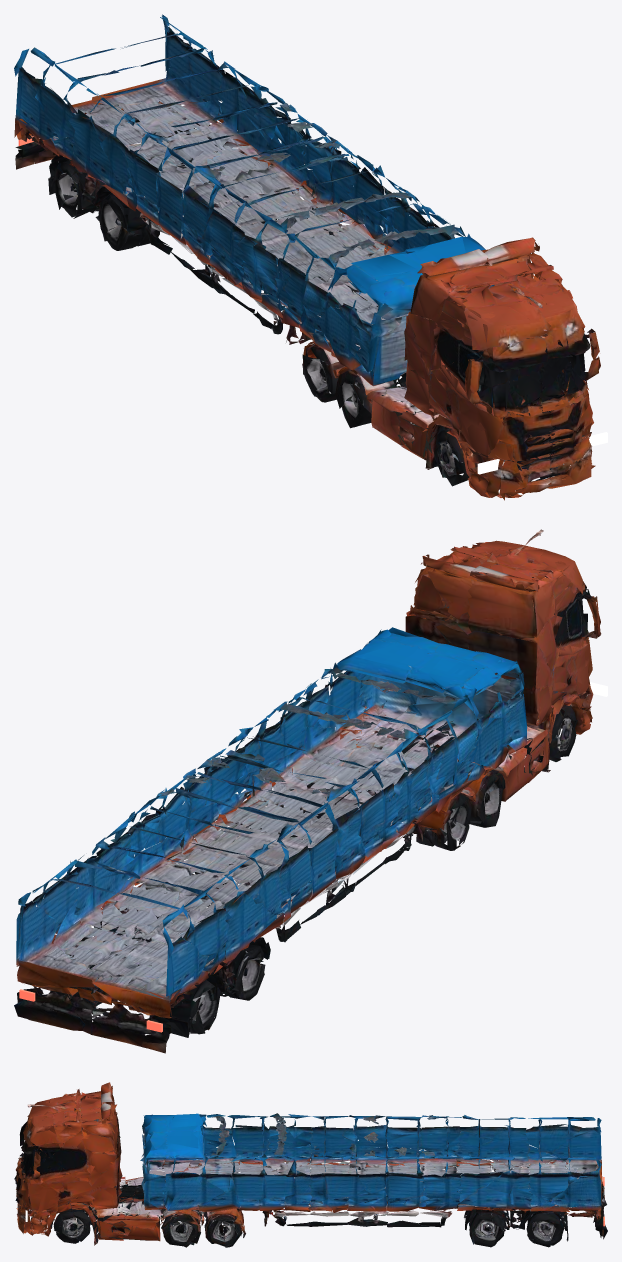
Rendered from mats-flat.glb.
The picture shows the model from 3 angles, top to bottom: view 1: azimuth 30°, elevation 25°; view 2: azimuth 150°, elevation 25°; view 3: azimuth 270°, elevation 25°; orthographic projection. The views are drawn at different scales.
Visible parts, largest first — view 1: trailer_body, cab_body, wheel_1_L, wheel_2_L, wheel_3_L, wheel_4_L, wheel_0_L; view 2: trailer_body, cab_body, wheel_2_L, wheel_1_L, wheel_4_L, wheel_3_L, wheel_0_L; view 3: trailer_body, cab_body, wheel_1_R, wheel_2_R, wheel_4_R, wheel_3_R, wheel_0_R.
Part boxes in pixels (left/top/right/bottom): trailer_body: left=14, top=14, right=494, bottom=386; cab_body: left=302, top=237, right=600, bottom=500; wheel_1_L: left=335, top=367, right=394, bottom=428; wheel_2_L: left=302, top=340, right=345, bottom=402; wheel_3_L: left=94, top=186, right=153, bottom=250; wheel_4_L: left=49, top=155, right=99, bottom=218; wheel_0_L: left=427, top=418, right=468, bottom=486; trailer_body: left=14, top=627, right=527, bottom=1053; cab_body: left=344, top=529, right=601, bottom=848; wheel_2_L: left=412, top=789, right=474, bottom=850; wheel_1_L: left=461, top=766, right=506, bottom=827; wheel_4_L: left=170, top=973, right=220, bottom=1034; wheel_3_L: left=212, top=944, right=264, bottom=1000; wheel_0_L: left=531, top=698, right=577, bottom=761; trailer_body: left=140, top=1113, right=607, bottom=1241; cab_body: left=14, top=1082, right=245, bottom=1245; wheel_1_R: left=161, top=1209, right=201, bottom=1247; wheel_2_R: left=201, top=1208, right=242, bottom=1247; wheel_4_R: left=526, top=1205, right=567, bottom=1247; wheel_3_R: left=468, top=1207, right=510, bottom=1247; wheel_0_R: left=53, top=1203, right=97, bottom=1243.
Bounding box in the file's own units: 3.28 × 3.86 × 16.16.
Materials: 5 (1 with a texture image).
